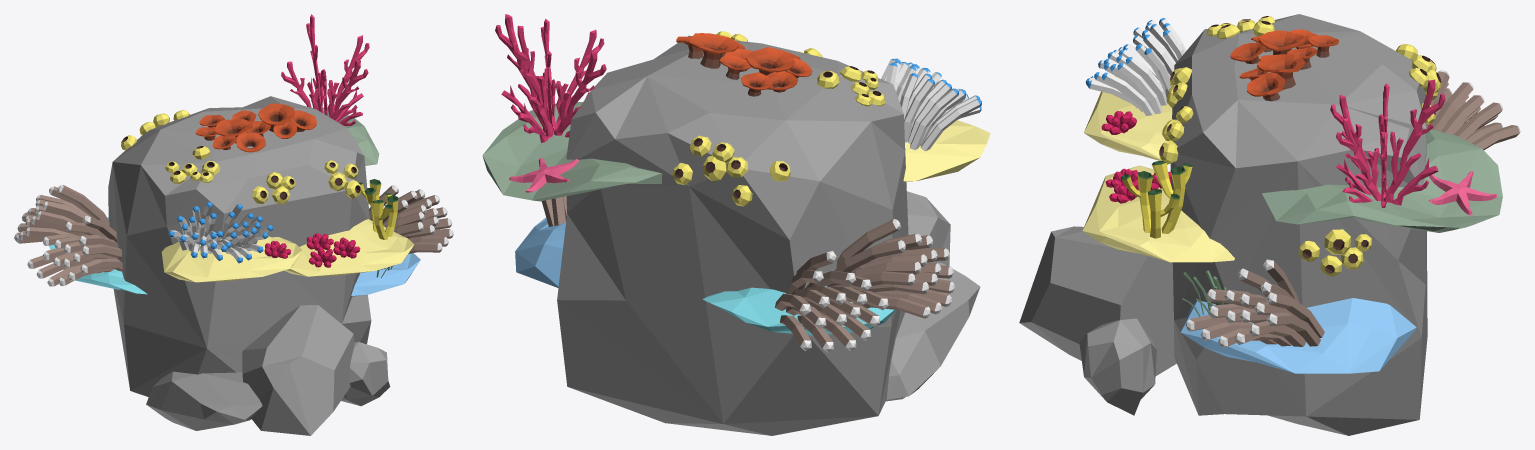
The model's file is Coral_reef_016.glb.
3 views of the same model, side by side, from view 1: azimuth 30°, elevation 25°; view 2: azimuth 150°, elevation 25°; view 3: azimuth 270°, elevation 25° (orthographic). The views are drawn at different scales.
Visible parts, largest first — view 1: Coral_reef_016; view 2: Coral_reef_016; view 3: Coral_reef_016.
Part boxes in pixels (x1,y1,x2,y2): Coral_reef_016: (14,14,453,435); Coral_reef_016: (482,14,990,435); Coral_reef_016: (1019,14,1520,435).
Bounding box in the file's own units: 5.57 × 4.35 × 5.05.
Materials: 1 (1 with a texture image).
